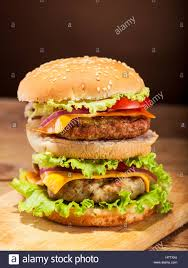hamburger: (16, 55, 164, 227)
